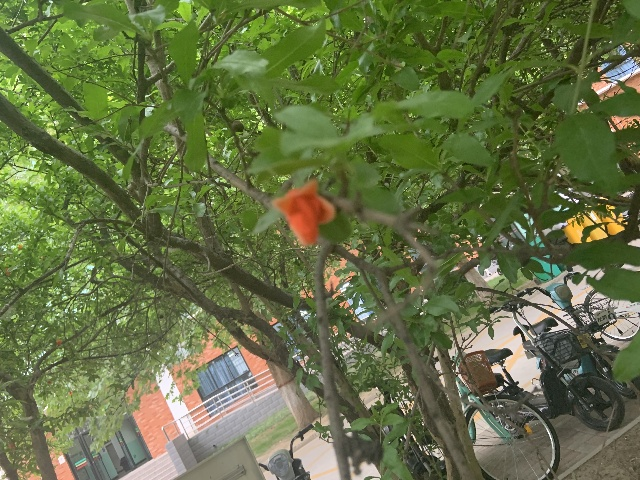flower: (272, 178, 335, 245), (56, 339, 62, 345)
